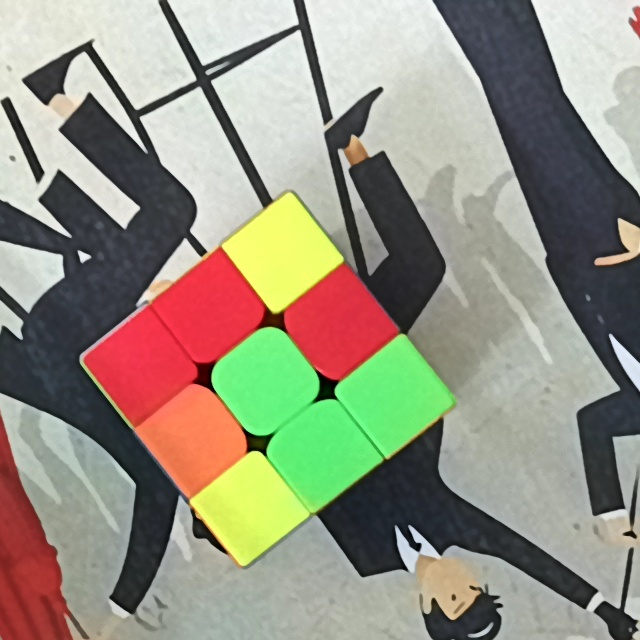tile: (252, 224, 315, 284), (306, 294, 371, 351), (108, 337, 168, 398), (367, 363, 428, 423), (233, 353, 294, 413), (178, 283, 237, 345), (218, 476, 281, 534), (294, 422, 355, 481), (166, 409, 225, 470)
